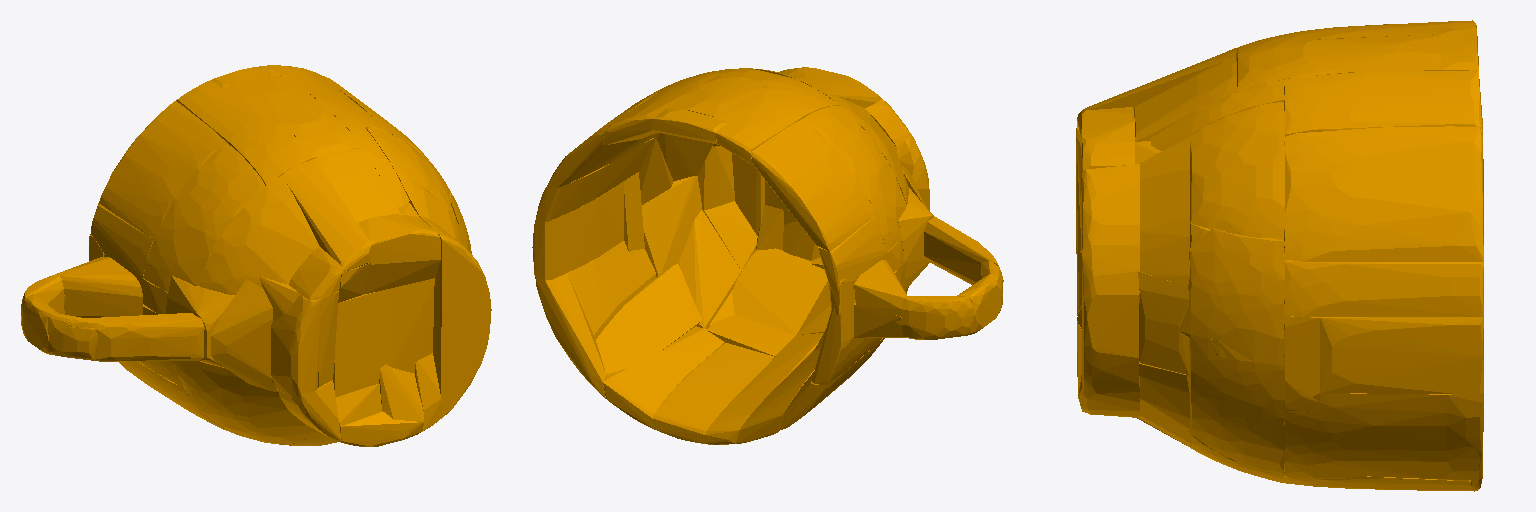
robot.urdf — cup-red:
<?xml version="1.0" ?>
<robot name="cup-red">
  <link name="baseLink">
    <contact>
      <lateral_friction value="1.0"/>
      <inertia_scaling value="3.0"/>
    </contact>
    <inertial>
      <origin rpy="0 0 0" xyz="0.000 0.000 0.000"/>
       <mass value=".1"/>
       <inertia ixx="1" ixy="0.0" ixz="0.0" iyy="1" iyz="0.0" izz="1"/>
    </inertial>
    <visual>
      <origin rpy="0 0 0" xyz="0 0 0"/>
      <geometry>
        <mesh filename="cup/cup-red_heart.obj" scale="1.0 1.0 1.0"/>
      </geometry>
    </visual>
    <collision>
      <origin rpy="0 0 0" xyz="0 0 0"/>
      <geometry>
        <mesh filename="../collision/cup/cup-red_heart.obj" scale="1.0 1.0 1.0"/>
      </geometry>
    </collision>
  </link>
</robot>
        

--- What the picture shows (computed from the rendered views, not written in the file) ---
3 views of the same robot in one strip: view 1: azimuth 30°, elevation 25°; view 2: azimuth 150°, elevation 25°; view 3: azimuth 270°, elevation 25° (orthographic).
Model cup-red with 1 links and 0 joints (none), rooted at baseLink, posed all joints at 0.
Links seen in each view (by area): view 1: baseLink; view 2: baseLink; view 3: baseLink.
Link boxes in pixels (x1,y1,x2,y2): baseLink: [21, 65, 491, 446]; baseLink: [532, 67, 1003, 444]; baseLink: [1076, 20, 1483, 491].
Bounding box of the posed robot: 0.1144 × 0.0748 × 0.0856 m (x, y, z).
1 mesh visuals loaded from 1 distinct referenced files (1 OBJ).